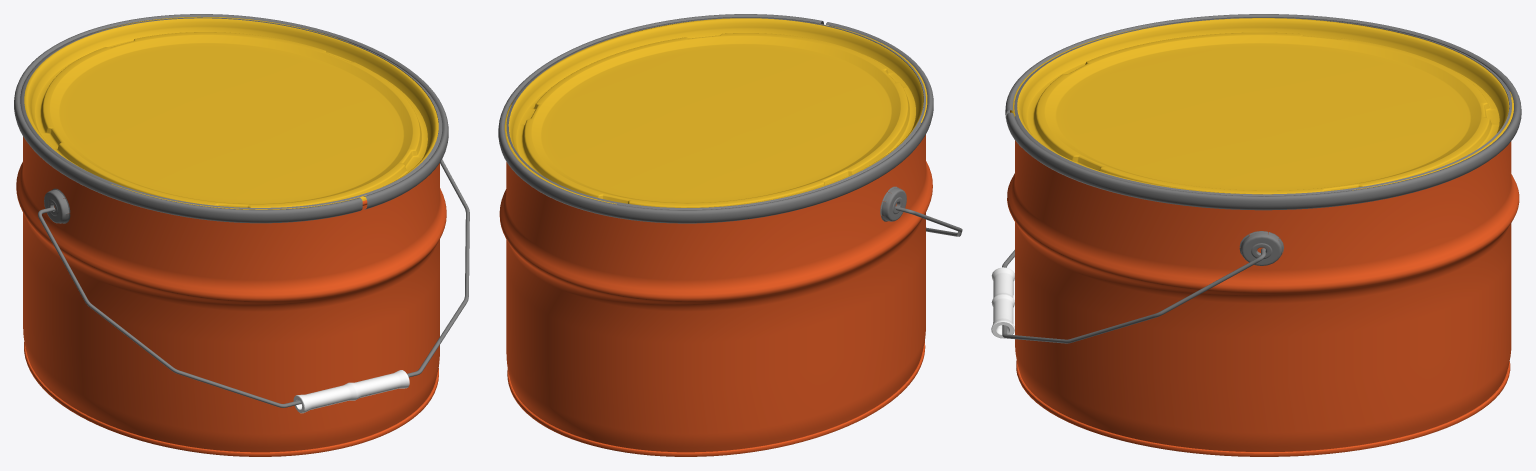
File: 油漆桶.FBX
The picture shows the model from 3 angles, left to right: view 1: azimuth 30°, elevation 25°; view 2: azimuth 150°, elevation 25°; view 3: azimuth 270°, elevation 25°; orthographic projection. The views are drawn at different scales.
Parts seen in each view (by area): view 1: 桶, 盖子, 圈, 把, 内圈, 提手, 环2; view 2: 桶, 盖子, 圈, 内圈, 环2, 把; view 3: 桶, 盖子, 圈, 内圈, 把, 提手, 环1.
Part boxes in pixels (box(x1,y1,x2,y2)): 桶: box(16, 136, 446, 456); 盖子: box(24, 16, 438, 209); 圈: box(14, 14, 448, 223); 把: box(38, 159, 469, 407); 内圈: box(20, 17, 442, 209); 提手: box(293, 370, 409, 413); 环2: box(44, 188, 70, 223); 桶: box(499, 134, 932, 456); 盖子: box(504, 18, 927, 207); 圈: box(498, 14, 933, 223); 内圈: box(506, 17, 925, 209); 环2: box(880, 186, 906, 221); 把: box(895, 206, 962, 236); 桶: box(1007, 110, 1519, 456); 盖子: box(1010, 18, 1513, 194); 圈: box(1005, 14, 1521, 210); 内圈: box(1014, 17, 1511, 196); 把: box(1002, 248, 1265, 343); 提手: box(991, 267, 1014, 338); 环1: box(1239, 231, 1283, 265).
Size of the model in its own units: 30.13 by 18.66 by 34.1.
